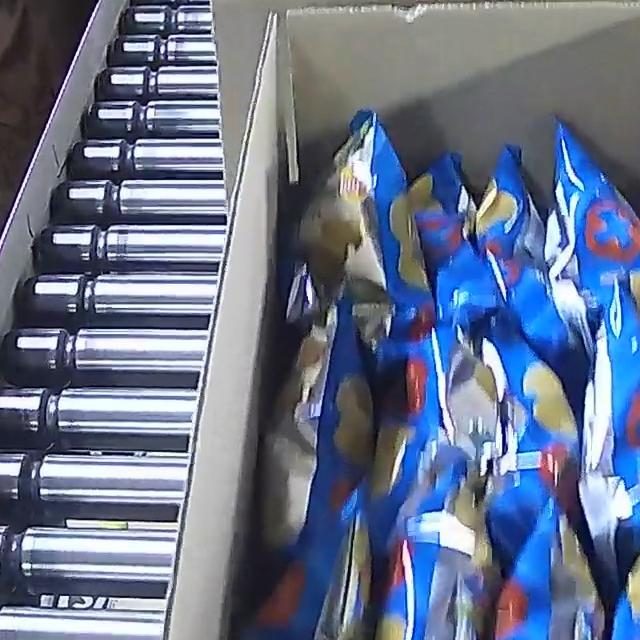paprika: (245, 105, 640, 640)
